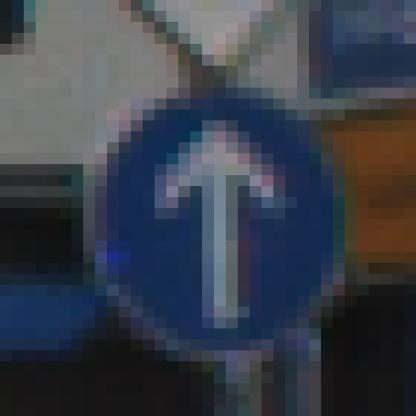AheadOnly: (72, 67, 358, 351)
